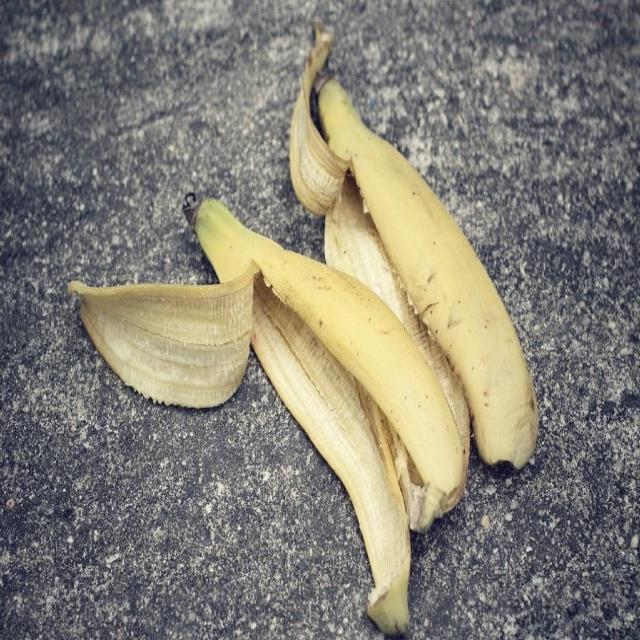Wet: (65, 19, 541, 638)
